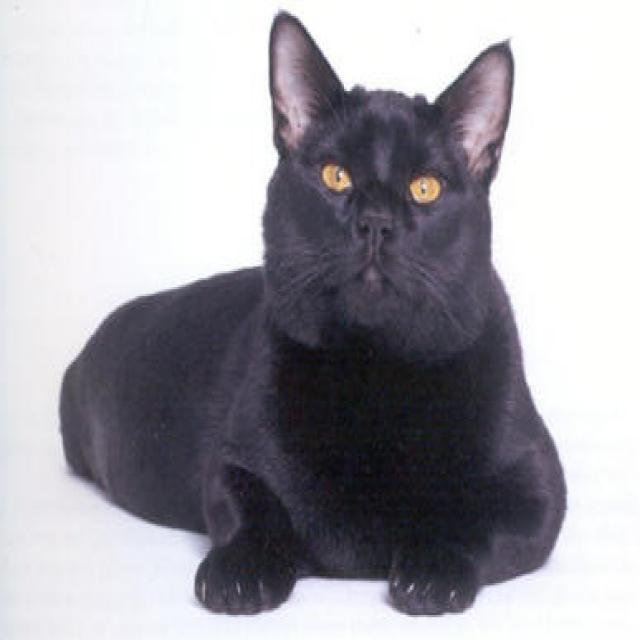Bombay: (256, 9, 524, 367)
